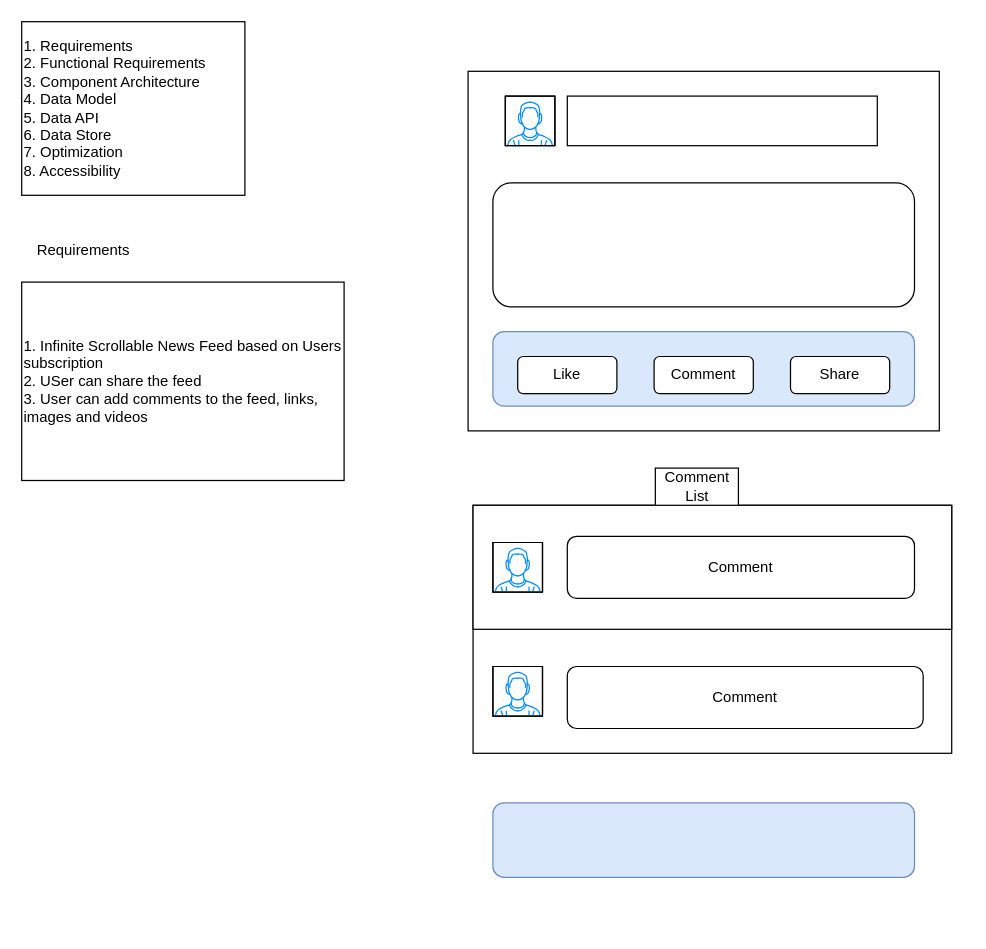
The diagram is 986 pixels wide and 949 high, and some of its shapes have lost their labels. Each missing label, with the centre of its shape:
"Feed Content(Text, Image, Videos)" belongs at [703,244].
"John Doe 5h" belongs at [721,120].
